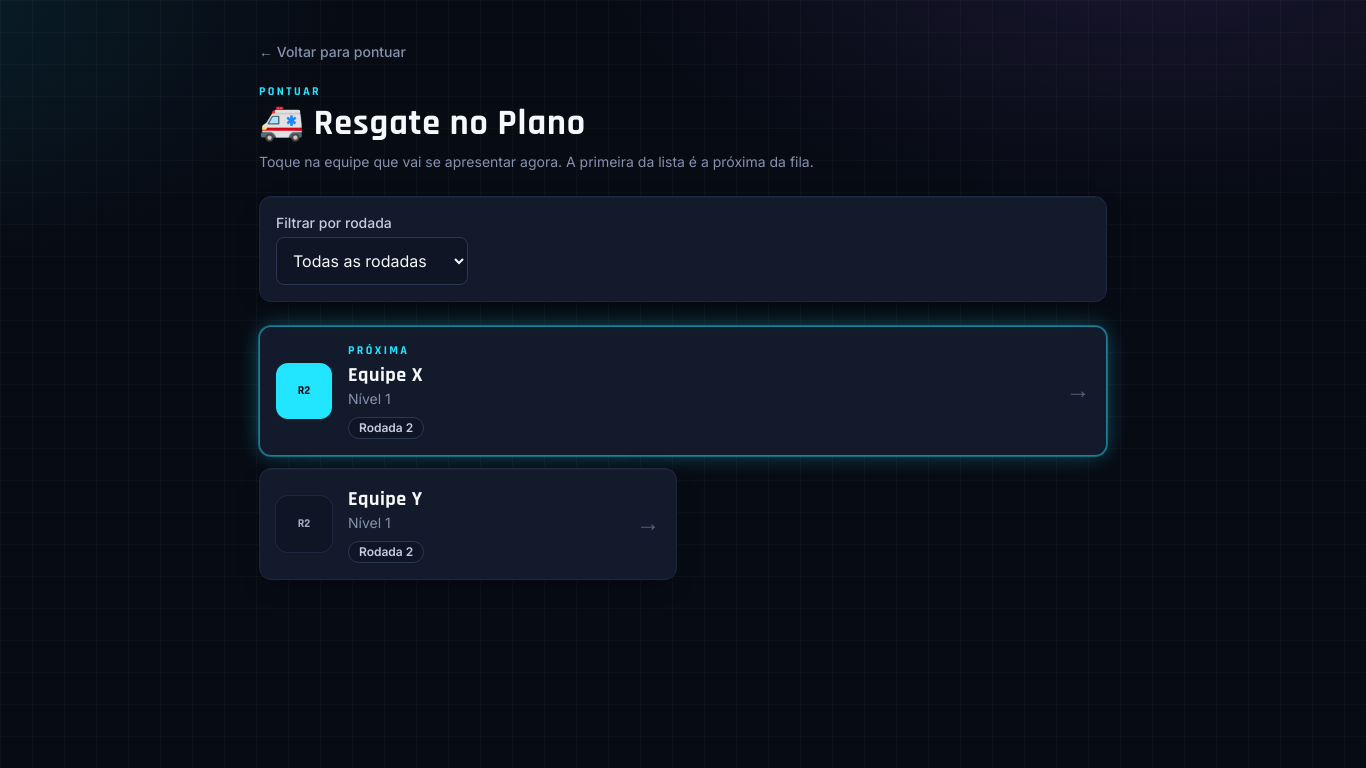
Test case: PontuarPage › mostra mensagem quando o filtro de rodada nao bate com nenhuma equipe pendente
Select "Rodada 1" in the dropdown labelled "Filtrar por rodada". click: (372, 261)
box: top-left (276, 237), bottom-right (468, 285)
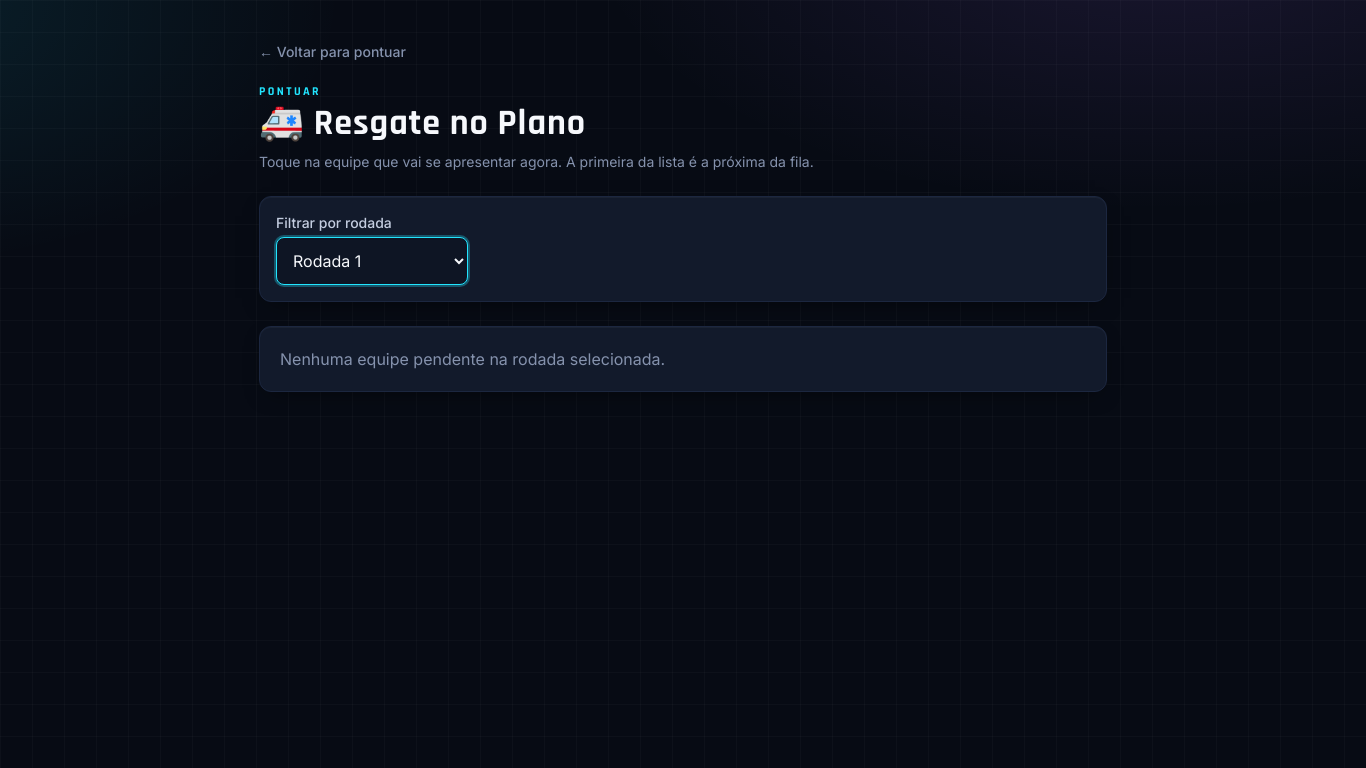
Result: the text "Nenhuma equipe pendente na rodada selecionada." is shown at top-left (259, 326), bottom-right (1107, 392)
